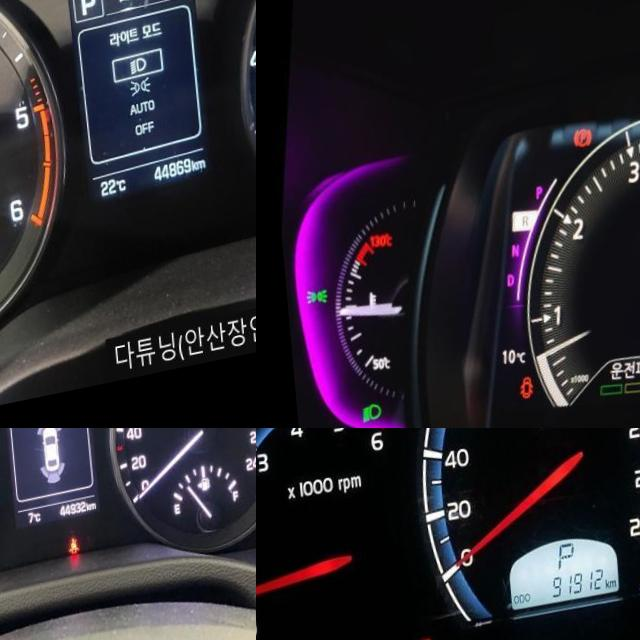Doors: (507, 383, 525, 410)
Low beam: (350, 402, 373, 428)
SideLamp: (297, 285, 321, 310)
